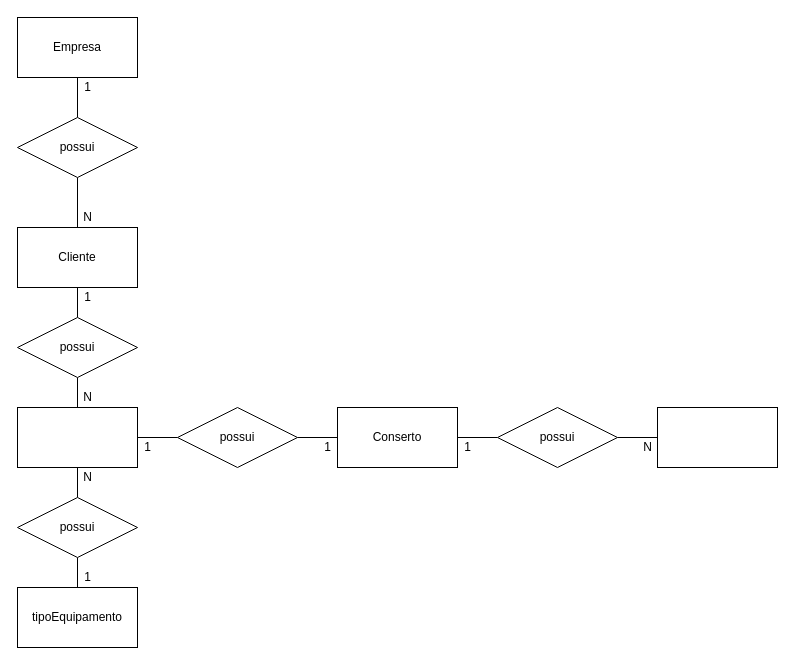
This 795x665 diagram has some shape labels left out. The box of each missing label's shape, as (x1, y1, x2, y2) in pixels:
Colaborador: (656, 406, 778, 468)
Equipamento: (16, 406, 138, 468)
